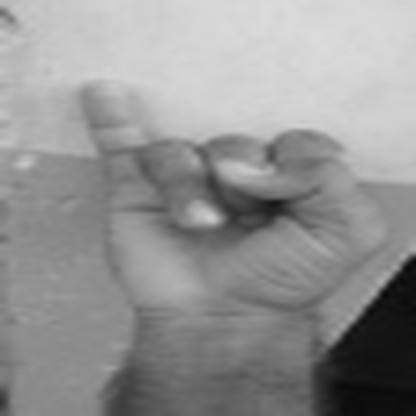i: (67, 70, 374, 308)
